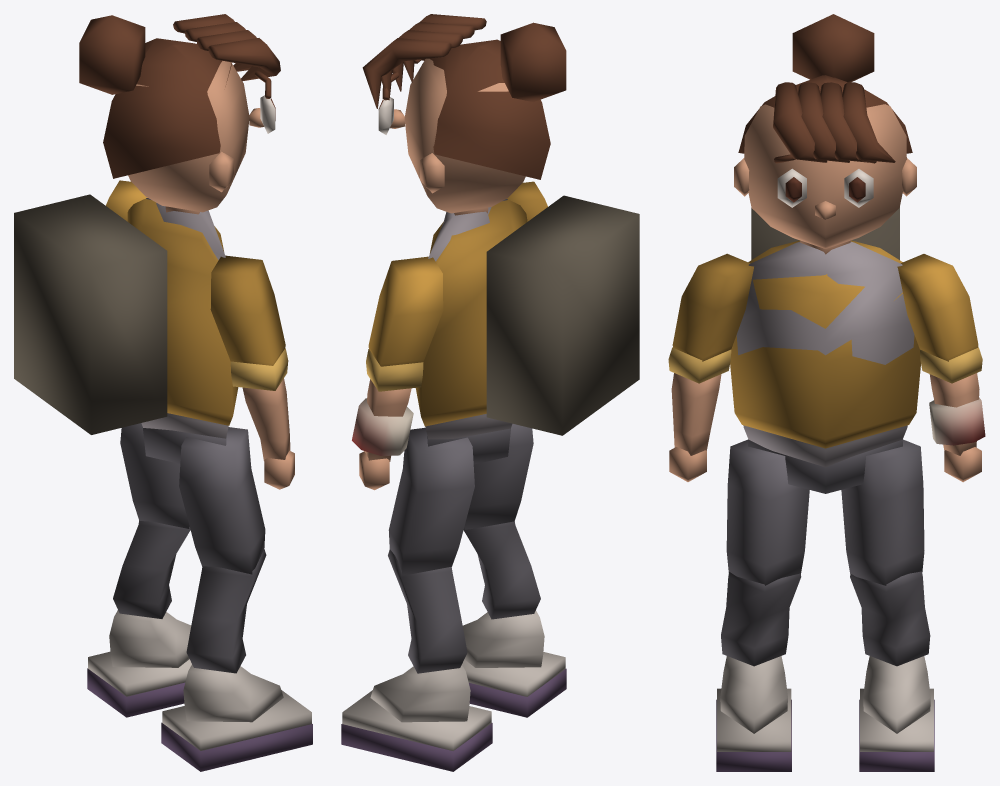
3 renders of one model, left to right at view 1: azimuth 30°, elevation 25°; view 2: azimuth 150°, elevation 25°; view 3: azimuth 270°, elevation 25°, orthographic. The views are drawn at different scales.
Parts seen in each view (by area): view 1: torso_pal_picketWhite, head_pal_picketWhite, footR_pal_picketWhite, legR_pal_picketWhite, footL_pal_picketWhite, armR_pal_picketWhite, shinR_pal_picketWhite, shinL_pal_picketWhite, legL_pal_picketWhite, foreArmR_pal_picketWhite, hip_pal_picketWhite, handR_pal_picketWhite (+1 smaller); view 2: torso_pal_picketWhite, head_pal_picketWhite, footL_pal_picketWhite, legL_pal_picketWhite, footR_pal_picketWhite, armL_pal_picketWhite, shinL_pal_picketWhite, foreArmL_pal_picketWhite, shinR_pal_picketWhite, legR_pal_picketWhite, hip_pal_picketWhite, handL_pal_picketWhite (+1 smaller); view 3: torso_pal_picketWhite, head_pal_picketWhite, legR_pal_picketWhite, legL_pal_picketWhite, footR_pal_picketWhite, footL_pal_picketWhite, armR_pal_picketWhite, armL_pal_picketWhite, shinL_pal_picketWhite, shinR_pal_picketWhite, foreArmL_pal_picketWhite, foreArmR_pal_picketWhite (+3 smaller).
Boxes of the visible parts, x1,y1,x2,y2 form: torso_pal_picketWhite: (14, 194, 238, 438); head_pal_picketWhite: (79, 14, 280, 214); footR_pal_picketWhite: (161, 664, 312, 771); legR_pal_picketWhite: (179, 427, 265, 574); footL_pal_picketWhite: (87, 610, 191, 717); armR_pal_picketWhite: (210, 255, 285, 365); shinR_pal_picketWhite: (186, 549, 266, 673); shinL_pal_picketWhite: (113, 520, 190, 618); legL_pal_picketWhite: (120, 423, 189, 528); foreArmR_pal_picketWhite: (230, 348, 290, 460); hip_pal_picketWhite: (143, 428, 226, 463); handR_pal_picketWhite: (264, 450, 294, 489); torso_pal_picketWhite: (415, 195, 639, 439); head_pal_picketWhite: (362, 14, 566, 215); footL_pal_picketWhite: (341, 665, 492, 771); legL_pal_picketWhite: (388, 427, 474, 574); footR_pal_picketWhite: (462, 610, 566, 717); armL_pal_picketWhite: (368, 256, 443, 366); shinL_pal_picketWhite: (388, 549, 467, 673); foreArmL_pal_picketWhite: (352, 349, 423, 461); shinR_pal_picketWhite: (463, 521, 540, 619); legR_pal_picketWhite: (464, 424, 533, 529); hip_pal_picketWhite: (427, 428, 510, 464); handL_pal_picketWhite: (359, 451, 389, 490); torso_pal_picketWhite: (730, 207, 920, 467); head_pal_picketWhite: (734, 14, 916, 254); legR_pal_picketWhite: (726, 439, 809, 585); legL_pal_picketWhite: (841, 439, 924, 585); footR_pal_picketWhite: (716, 656, 791, 771); footL_pal_picketWhite: (859, 656, 934, 771); armR_pal_picketWhite: (672, 253, 753, 361); armL_pal_picketWhite: (897, 254, 978, 361); shinL_pal_picketWhite: (850, 571, 930, 666); shinR_pal_picketWhite: (721, 572, 801, 666); foreArmL_pal_picketWhite: (920, 347, 985, 455); foreArmR_pal_picketWhite: (668, 347, 731, 455).
Bounding box in the file's own units: 0.4548 × 1.44 × 0.5993.
